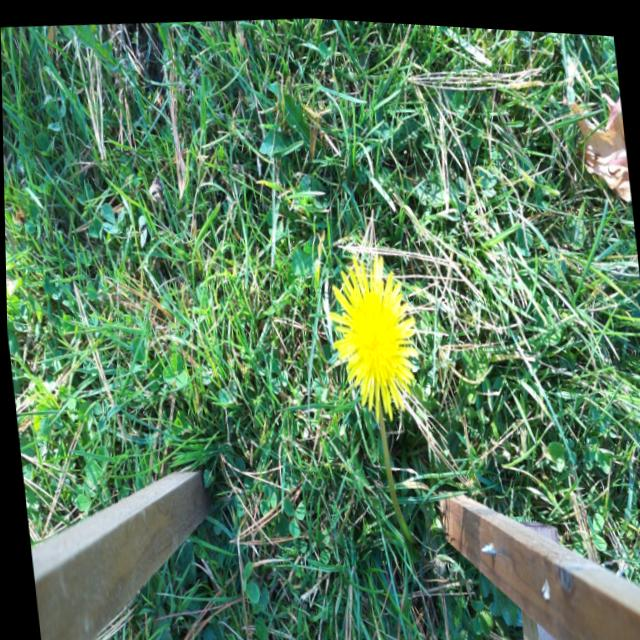base: (398, 515, 422, 556)
